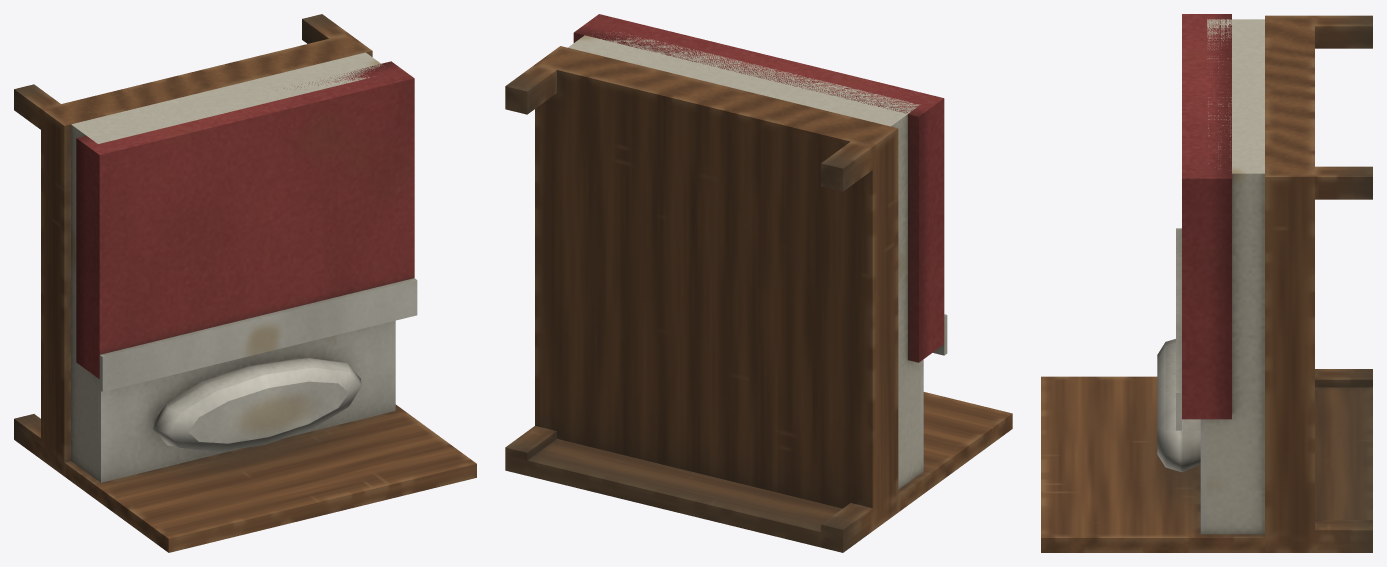
File: bed_red_head.obj
3 views of the same model, side by side, from view 1: azimuth 30°, elevation 25°; view 2: azimuth 150°, elevation 25°; view 3: azimuth 270°, elevation 25° (orthographic). The views are drawn at different scales.
Size of the model in its own units: 0.94 by 1 by 0.8.
1 material, 1 textured.
